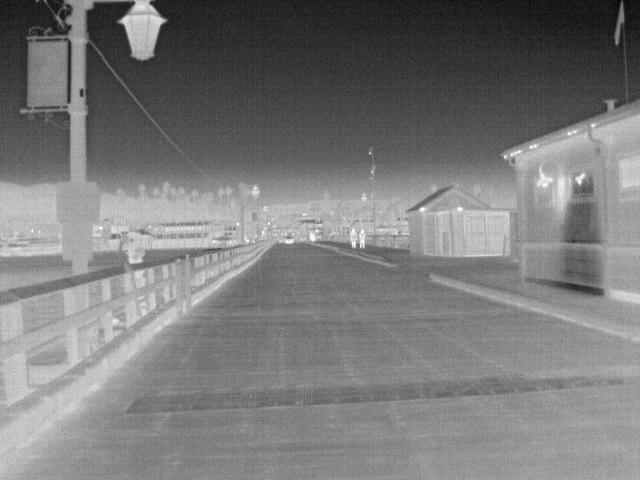car: (283, 234, 295, 246)
person: (344, 226, 360, 252), (356, 226, 371, 250)
